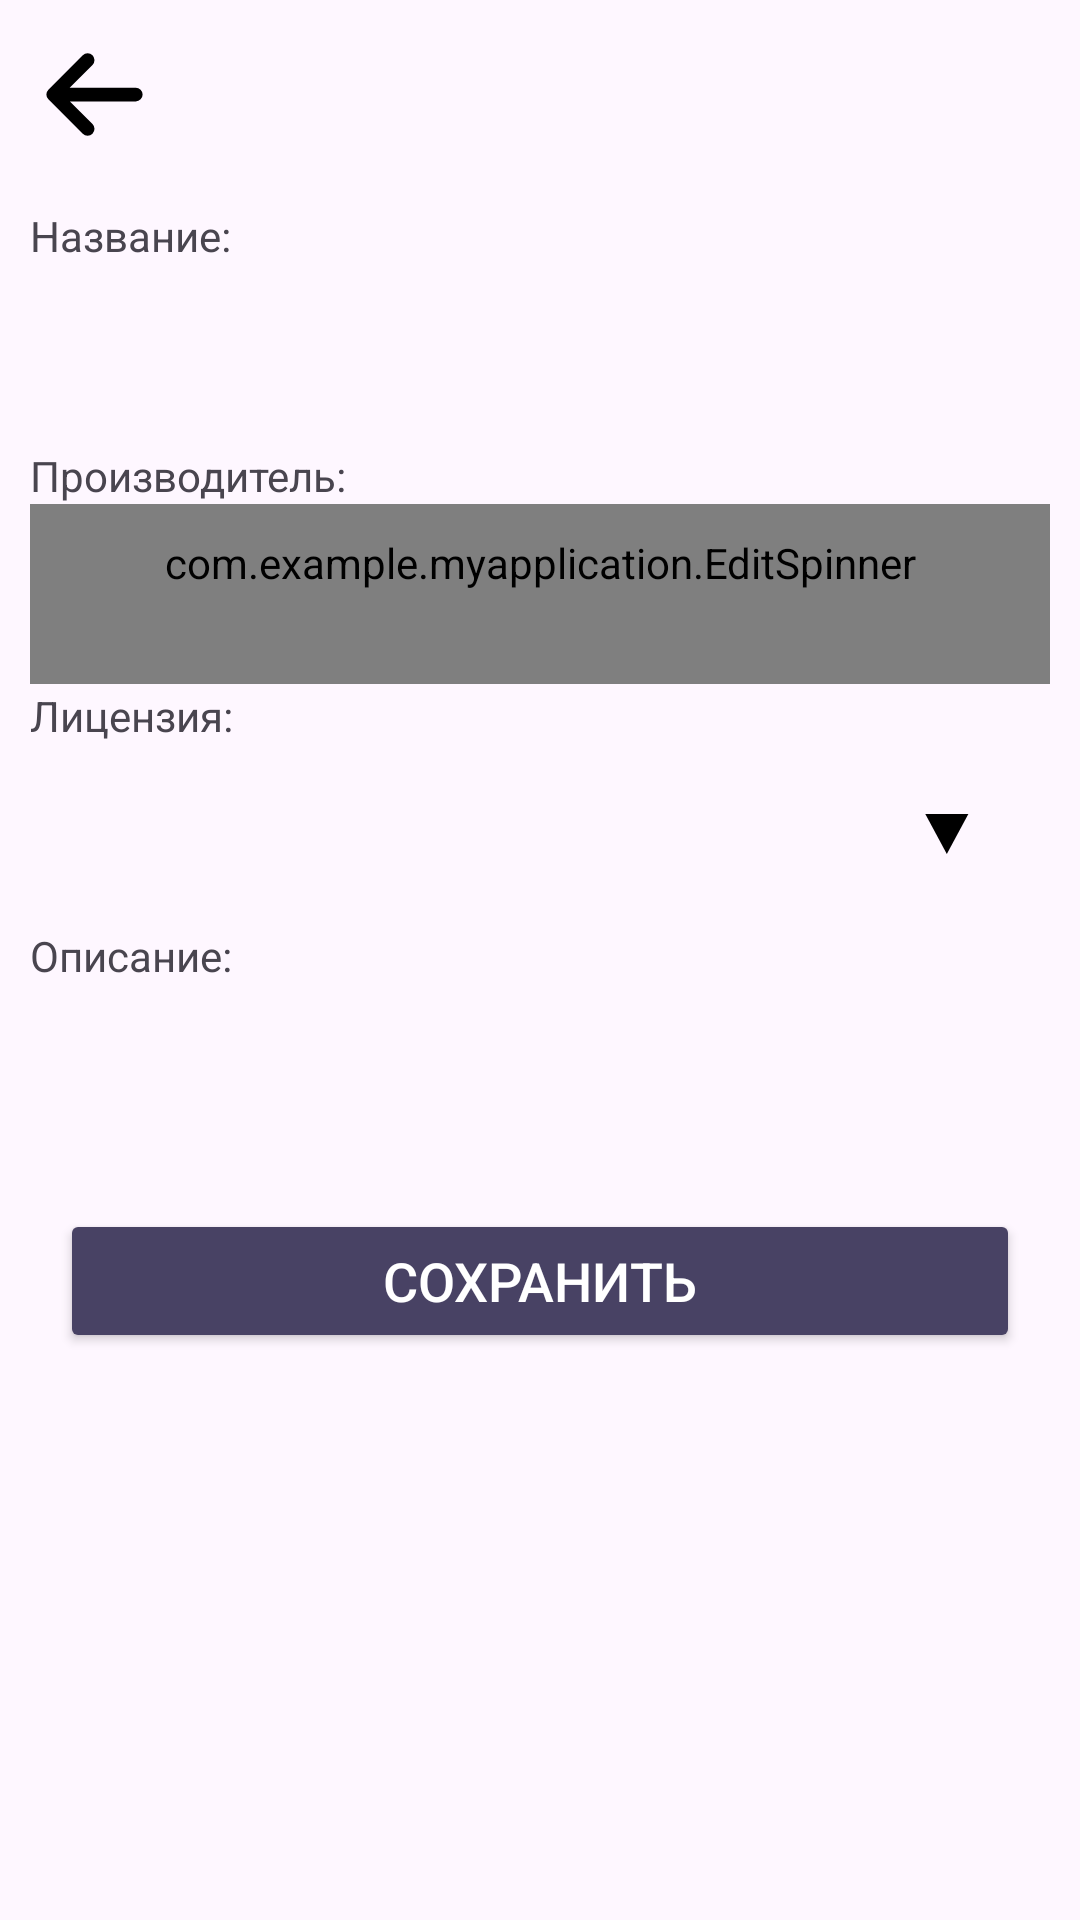

Where to tap for icons on this 1080 × 1920 app screen, as [x,y]:
arrow: [94,94]
